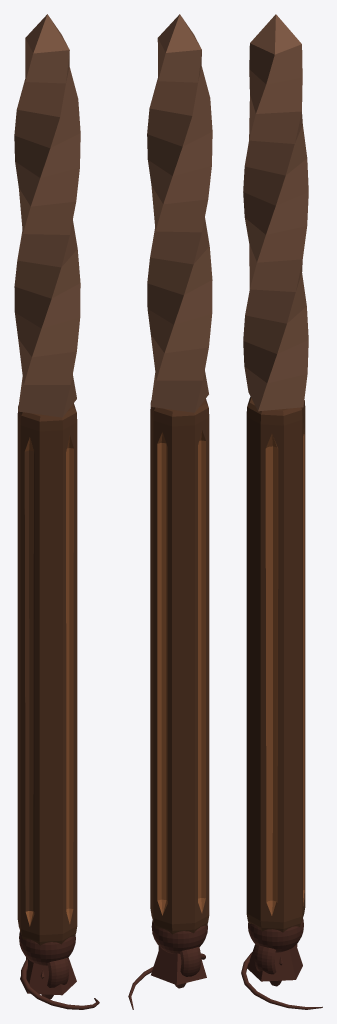
File: Wand 556.glb
3 renders of one model, left to right at view 1: azimuth 30°, elevation 25°; view 2: azimuth 210°, elevation 25°; view 3: azimuth 330°, elevation 25°, orthographic.
Visible parts, largest first — view 1: GeneratedWand, Pommel_4, Pommel_9, Pommel_10, Pommel_2; view 2: GeneratedWand, Pommel_4, Pommel_9, Pommel_2; view 3: GeneratedWand, Pommel_9, Pommel_4, Pommel_2, Pommel_10.
Boxes of the visible parts, <box> form: GeneratedWand: <box>14,14,80,945</box>; Pommel_4: <box>19,931,75,965</box>; Pommel_9: <box>20,957,76,995</box>; Pommel_10: <box>21,959,99,1009</box>; Pommel_2: <box>26,957,68,987</box>; GeneratedWand: <box>147,14,212,934</box>; Pommel_4: <box>151,920,207,953</box>; Pommel_9: <box>151,947,206,984</box>; Pommel_2: <box>158,946,201,976</box>; GeneratedWand: <box>243,14,308,932</box>; Pommel_9: <box>247,944,302,981</box>; Pommel_4: <box>248,918,303,952</box>; Pommel_2: <box>254,944,297,974</box>; Pommel_10: <box>241,952,322,1009</box>.
Size of the model in its own units: 0.0413 by 0.515 by 0.0358.
